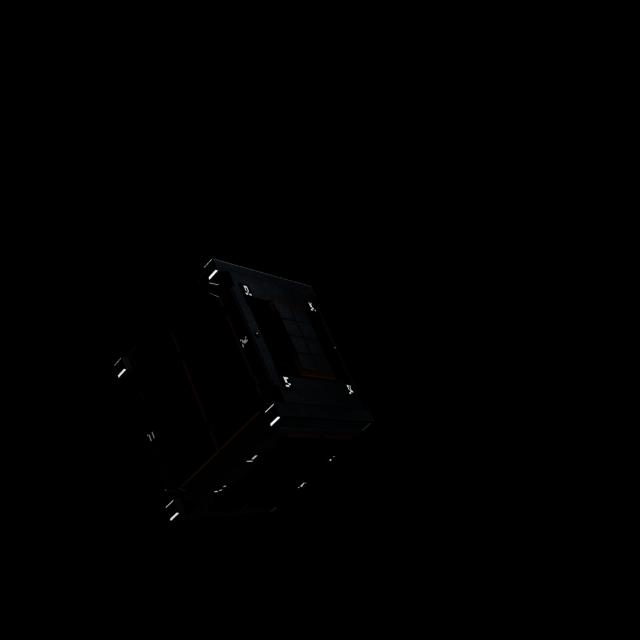medium_debris: (105, 248, 371, 548)
